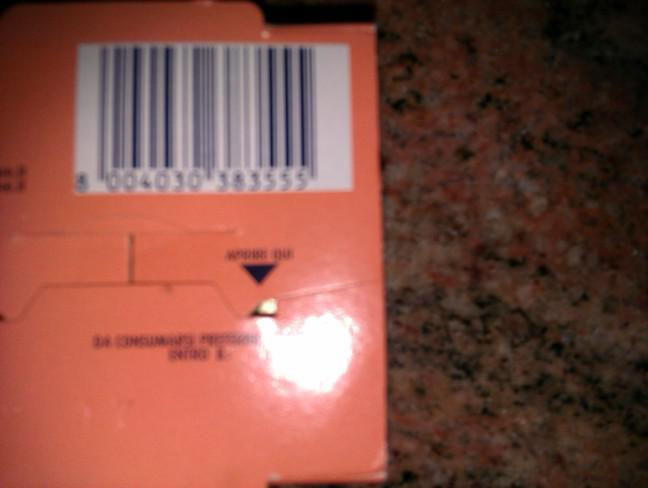Barkod: (74, 43, 350, 193)
